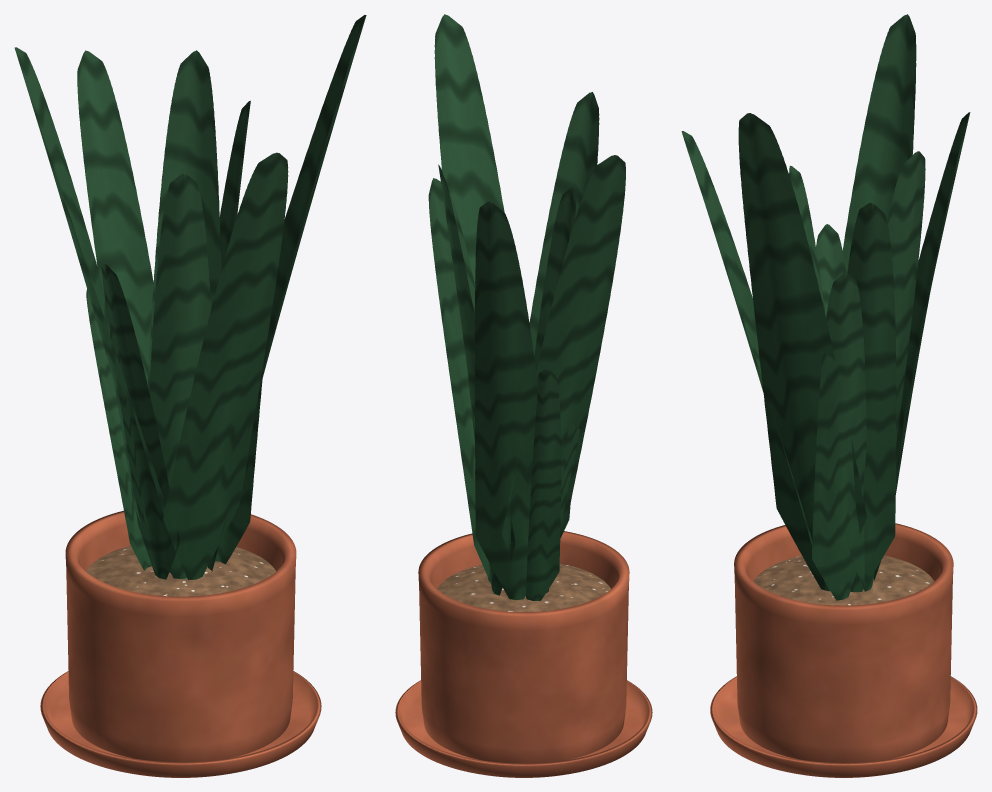
Rendered from sansevieria.glb.
The picture shows the model from 3 angles, left to right: view 1: azimuth 30°, elevation 25°; view 2: azimuth 150°, elevation 25°; view 3: azimuth 270°, elevation 25°; orthographic projection. The views are drawn at different scales.
Parts seen in each view (by area): view 1: piece-0, piece-5, piece-10, piece-9, piece-7, piece-6, piece-1, piece-12, piece-8, piece-2, piece-4, piece-11 (+1 smaller); view 2: piece-0, piece-9, piece-12, piece-8, piece-11, piece-4, piece-1, piece-5, piece-2, piece-6, piece-10, piece-7; view 3: piece-0, piece-8, piece-3, piece-11, piece-12, piece-1, piece-6, piece-9, piece-2, piece-5, piece-7, piece-10.
Boxes of the visible parts, x1=… form: piece-0: x1=65, y1=510, x2=296, y2=761; piece-5: x1=163, y1=152, x2=288, y2=580; piece-10: x1=144, y1=173, x2=211, y2=578; piece-9: x1=77, y1=50, x2=153, y2=521; piece-7: x1=101, y1=263, x2=179, y2=579; piece-6: x1=148, y1=50, x2=221, y2=391; piece-1: x1=40, y1=671, x2=321, y2=777; piece-12: x1=14, y1=47, x2=170, y2=572; piece-8: x1=208, y1=15, x2=366, y2=572; piece-2: x1=86, y1=545, x2=275, y2=596; piece-4: x1=86, y1=289, x2=151, y2=570; piece-11: x1=220, y1=100, x2=250, y2=268; piece-0: x1=418, y1=531, x2=629, y2=763; piece-9: x1=474, y1=201, x2=537, y2=599; piece-12: x1=502, y1=155, x2=625, y2=552; piece-8: x1=434, y1=14, x2=504, y2=285; piece-11: x1=428, y1=178, x2=491, y2=584; piece-4: x1=525, y1=369, x2=561, y2=600; piece-1: x1=395, y1=680, x2=652, y2=777; piece-5: x1=529, y1=92, x2=599, y2=538; piece-2: x1=437, y1=563, x2=610, y2=611; piece-6: x1=438, y1=164, x2=515, y2=595; piece-10: x1=534, y1=187, x2=575, y2=370; piece-7: x1=546, y1=421, x2=580, y2=593; piece-0: x1=734, y1=523, x2=953, y2=762; piece-8: x1=738, y1=113, x2=866, y2=591; piece-3: x1=812, y1=273, x2=866, y2=600; piece-11: x1=847, y1=203, x2=896, y2=592; piece-12: x1=842, y1=14, x2=916, y2=273; piece-1: x1=710, y1=676, x2=977, y2=777; piece-6: x1=845, y1=151, x2=925, y2=591; piece-9: x1=873, y1=112, x2=970, y2=580; piece-2: x1=753, y1=555, x2=934, y2=605; piece-5: x1=681, y1=131, x2=812, y2=546; piece-7: x1=816, y1=224, x2=846, y2=318; piece-10: x1=789, y1=165, x2=825, y2=315.
Size of the model in its own units: 0.2195 by 0.5482 by 0.217.
Materials: 3 (3 with a texture image).
